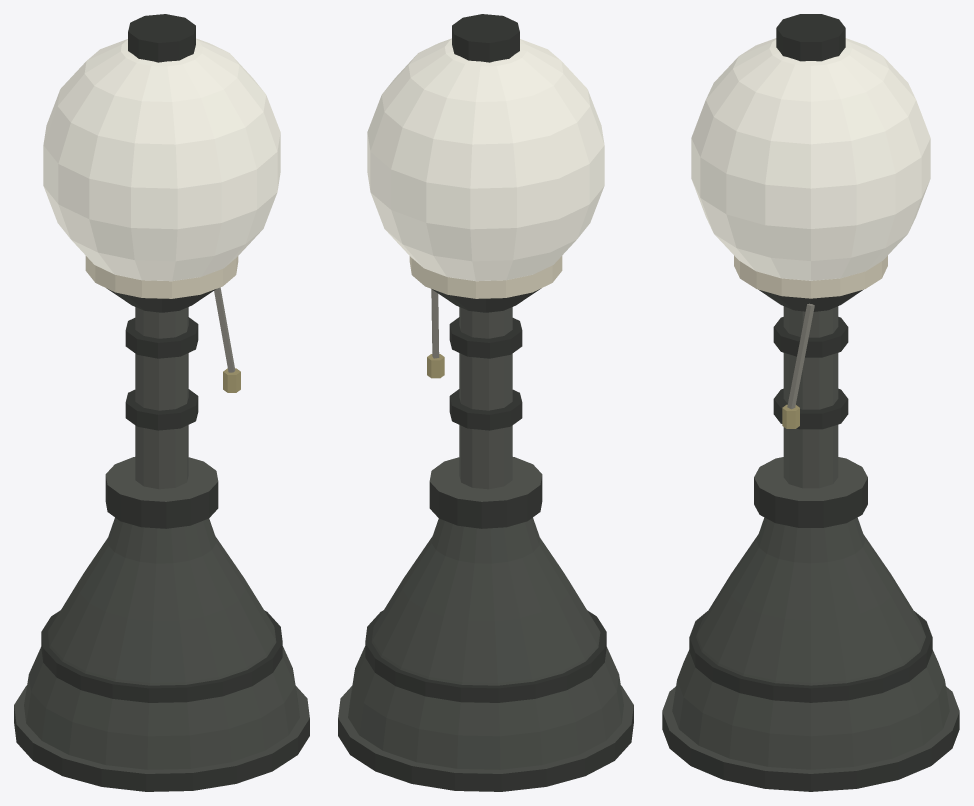
The model's file is Building_AncientLamp.glb.
The picture shows the model from 3 angles, left to right: view 1: azimuth 30°, elevation 25°; view 2: azimuth 150°, elevation 25°; view 3: azimuth 270°, elevation 25°; orthographic projection.
Parts seen in each view (by area): view 1: AncientLamp; view 2: AncientLamp; view 3: AncientLamp.
Boxes of the visible parts, x1,y1,x2,y2 form: AncientLamp: [14, 14, 309, 791]; AncientLamp: [338, 14, 633, 791]; AncientLamp: [662, 14, 959, 791].
Size of the model in its own units: 0.6 by 1.56 by 0.6.
1 material, 1 textured.
